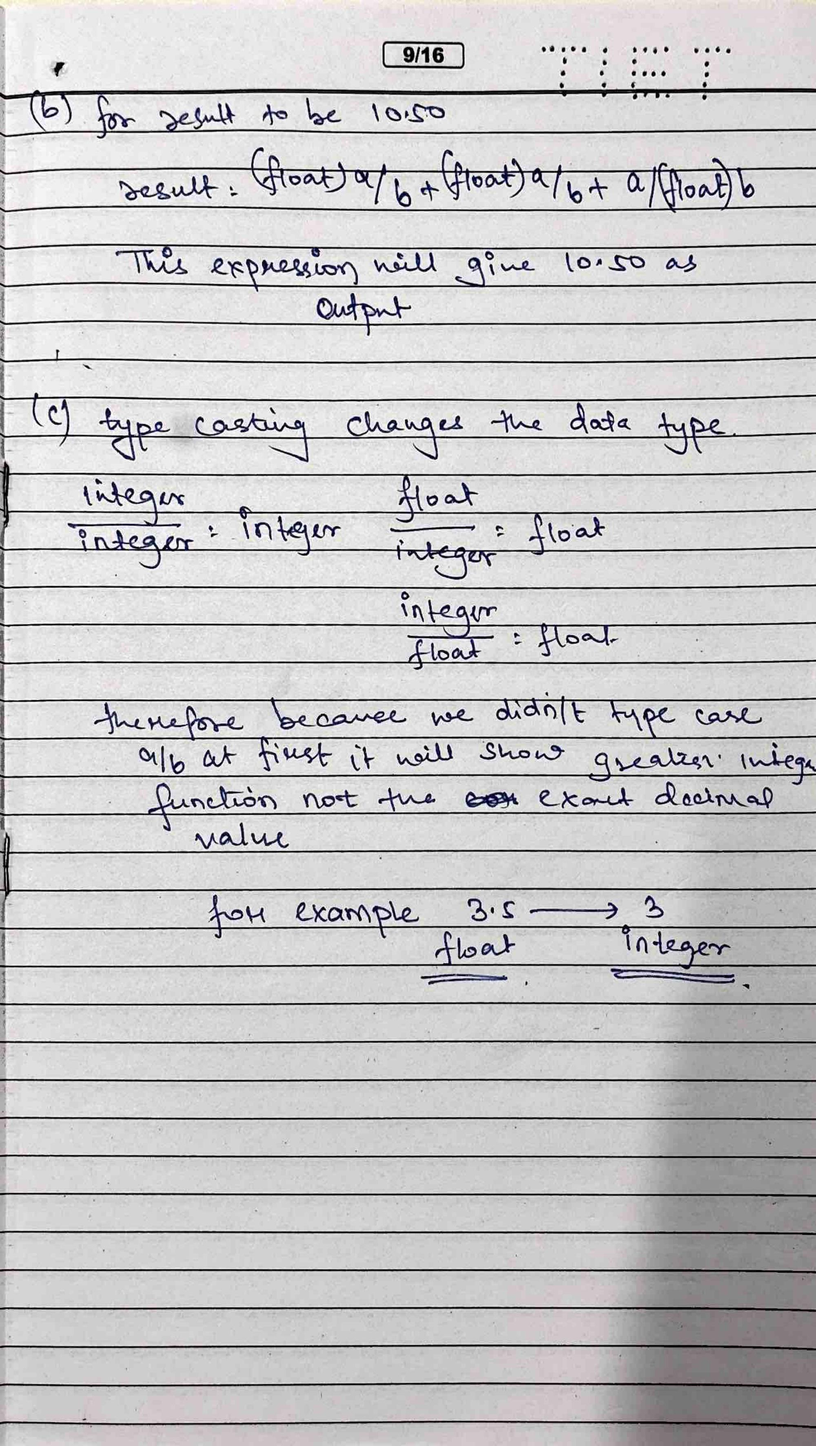cuttings: (465, 790, 520, 809)
